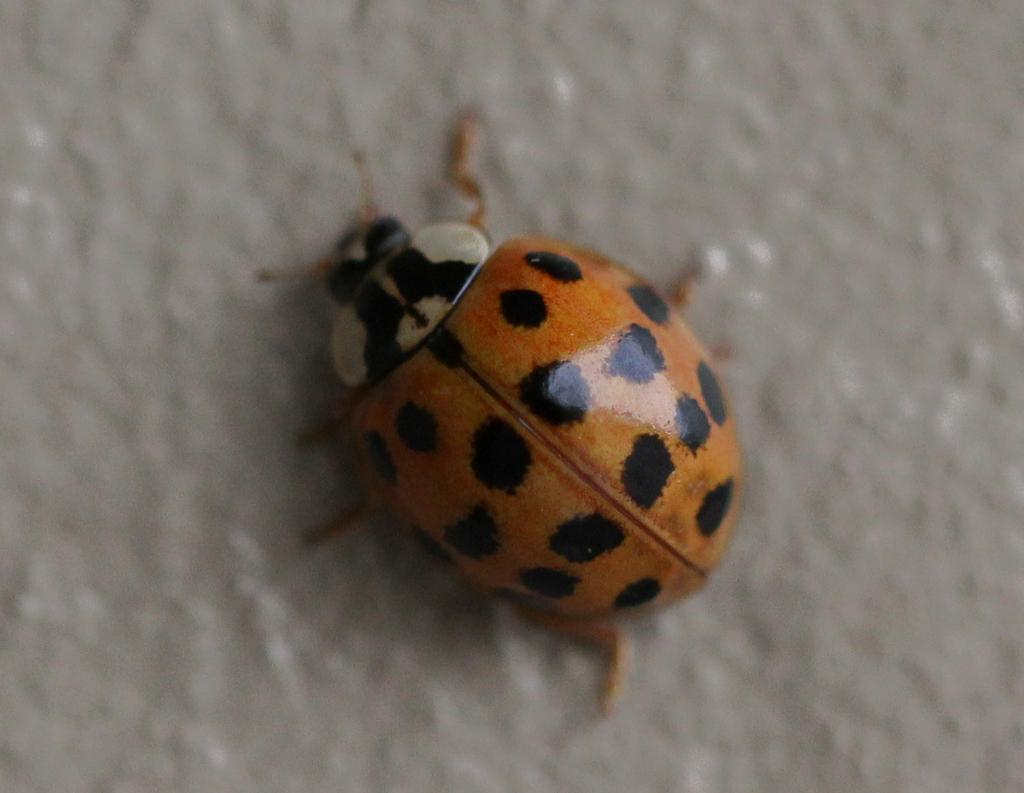ladybug: (255, 105, 749, 715)
